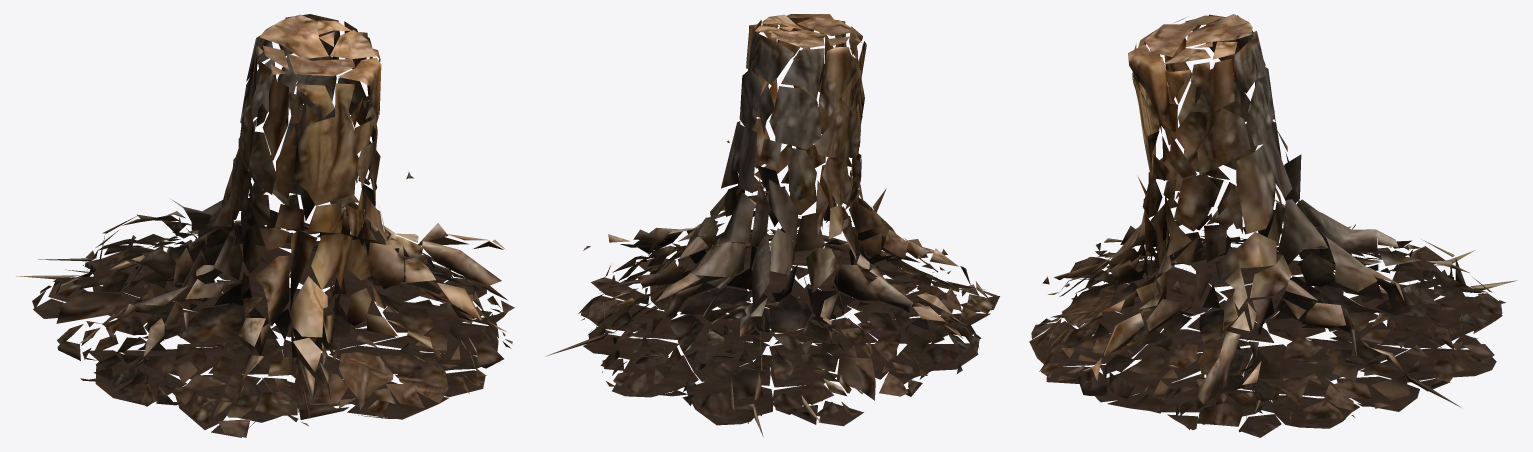
Rendered from ceppaia.glb.
3 views of the same model, side by side, from view 1: azimuth 30°, elevation 25°; view 2: azimuth 150°, elevation 25°; view 3: azimuth 270°, elevation 25° (orthographic). The views are drawn at different scales.
Visible parts, largest first — view 1: ceppaia; view 2: ceppaia; view 3: ceppaia.
Part boxes in pixels (x1,y1,x2,y2): ceppaia: (16, 14, 514, 437); ceppaia: (545, 14, 999, 436); ceppaia: (1029, 14, 1517, 437).
Size of the model in its own units: 0.9018 by 0.6568 by 0.9176.
Materials: 1 (1 with a texture image).
